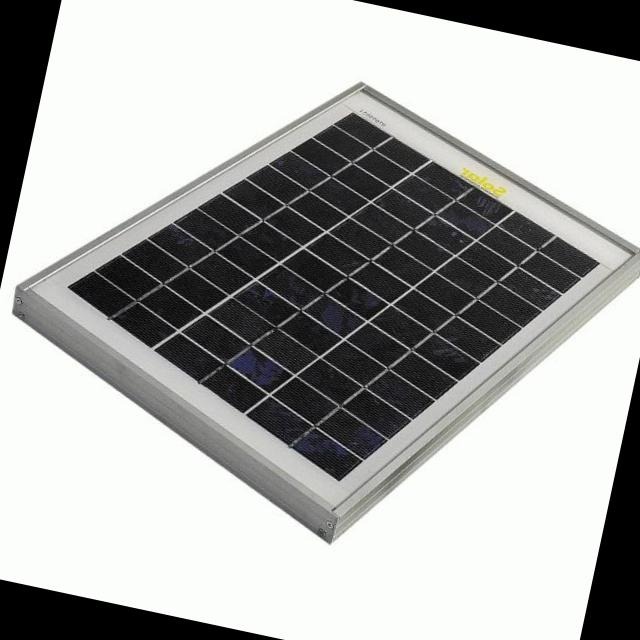no faulty: (67, 112, 593, 472)
